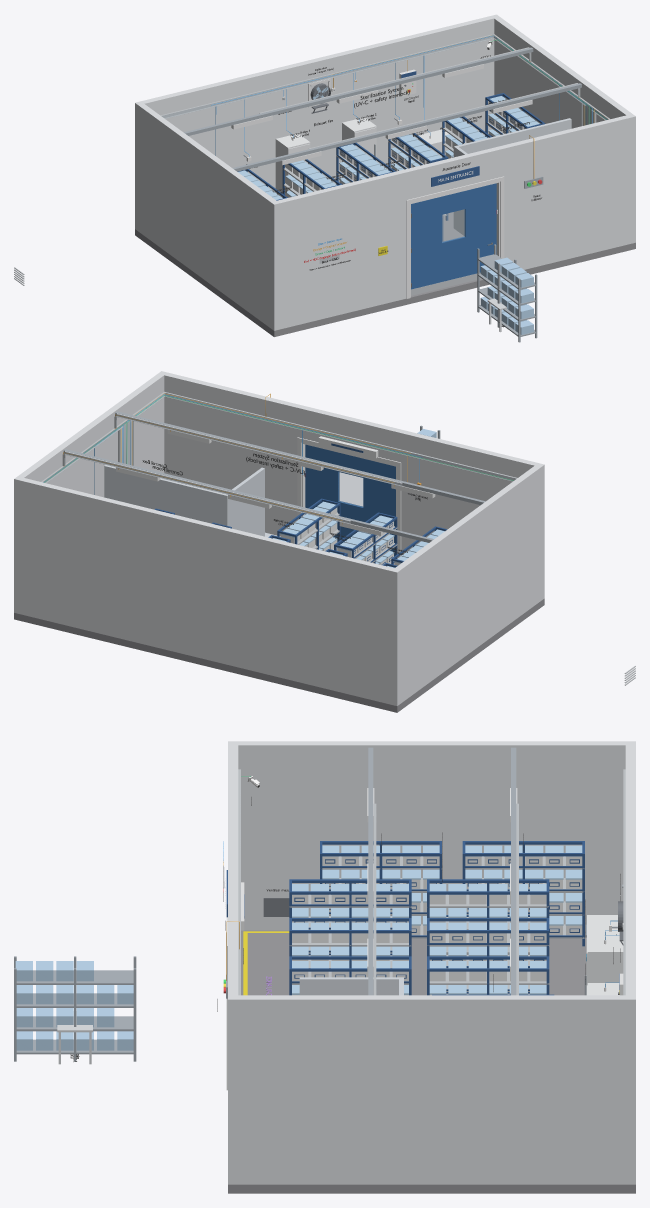
The model's file is gudang_3d.glb.
3 renders of one model, top to bottom at view 1: azimuth 30°, elevation 25°; view 2: azimuth 150°, elevation 25°; view 3: azimuth 270°, elevation 25°, orthographic. The views are drawn at different scales.
Parts seen in each view (by area): view 1: Wall_Back, Wall_Left, Wall_Front_Left, Wall_Front_Right, Main_Door, Wall_Right, Warehouse_Floor, Wall_Front_Lintel, Vaccine_Boxes_L1, Ceiling_Beam_02, Ceiling_Beam_01, Duct_Back (+18 smaller); view 2: Wall_Back, Wall_Left, Wall_Front_Right, Wall_Front_Left, Wall_Right, Main_Door, Control_Room_Partition_Back, Warehouse_Floor, Wall_Front_Lintel, Duct_Front, Control_Room_Partition_Side, Door_Frame (+12 smaller); view 3: Wall_Right, Wall_Left, Warehouse_Floor, Vaccine_Boxes_L1, Wall_Back, Vaccine_Boxes_L2, Rack_Left_01, Vaccine_Boxes_L3, Vaccine_Boxes_M1, Vaccine_Boxes_M3, Vaccine_Boxes_M2, Vaccine_Boxes_M4 (+21 smaller).
Boxes of the visible parts, bbox=[...] form: Wall_Back: bbox=[135, 14, 499, 230]; Wall_Left: bbox=[138, 104, 280, 330]; Wall_Front_Left: bbox=[277, 169, 409, 329]; Wall_Front_Right: bbox=[497, 115, 629, 269]; Main_Door: bbox=[411, 183, 496, 295]; Wall_Right: bbox=[494, 17, 635, 243]; Warehouse_Floor: bbox=[135, 171, 635, 336]; Wall_Front_Lintel: bbox=[407, 147, 500, 199]; Vaccine_Boxes_L1: bbox=[480, 257, 533, 334]; Ceiling_Beam_02: bbox=[184, 47, 533, 135]; Ceiling_Beam_01: bbox=[232, 83, 581, 171]; Duct_Back: bbox=[160, 34, 493, 118]; Wall_Back: bbox=[14, 476, 400, 705]; Wall_Left: bbox=[395, 463, 544, 703]; Wall_Front_Right: bbox=[164, 372, 304, 536]; Wall_Front_Left: bbox=[397, 429, 537, 555]; Wall_Right: bbox=[18, 371, 167, 497]; Main_Door: bbox=[305, 444, 395, 556]; Control_Room_Partition_Back: bbox=[104, 465, 228, 526]; Warehouse_Floor: bbox=[14, 564, 544, 712]; Wall_Front_Lintel: bbox=[301, 406, 400, 461]; Duct_Front: bbox=[165, 392, 517, 481]; Control_Room_Partition_Side: bbox=[229, 467, 264, 536]; Door_Frame: bbox=[297, 437, 401, 558]; Wall_Right: bbox=[228, 995, 625, 1184]; Wall_Left: bbox=[228, 741, 625, 930]; Warehouse_Floor: bbox=[228, 930, 635, 1193]; Vaccine_Boxes_L1: bbox=[15, 961, 133, 1050]; Wall_Back: bbox=[625, 741, 635, 1184]; Vaccine_Boxes_L2: bbox=[465, 845, 582, 935]; Rack_Left_01: bbox=[14, 956, 136, 1061]; Vaccine_Boxes_L3: bbox=[322, 845, 439, 935]; Vaccine_Boxes_M1: bbox=[292, 884, 408, 922]; Vaccine_Boxes_M3: bbox=[292, 922, 408, 960]; Vaccine_Boxes_M2: bbox=[429, 884, 546, 922]; Vaccine_Boxes_M4: bbox=[429, 922, 546, 960].
Size of the model in its own units: 17.58 by 4.71 by 12.2.
